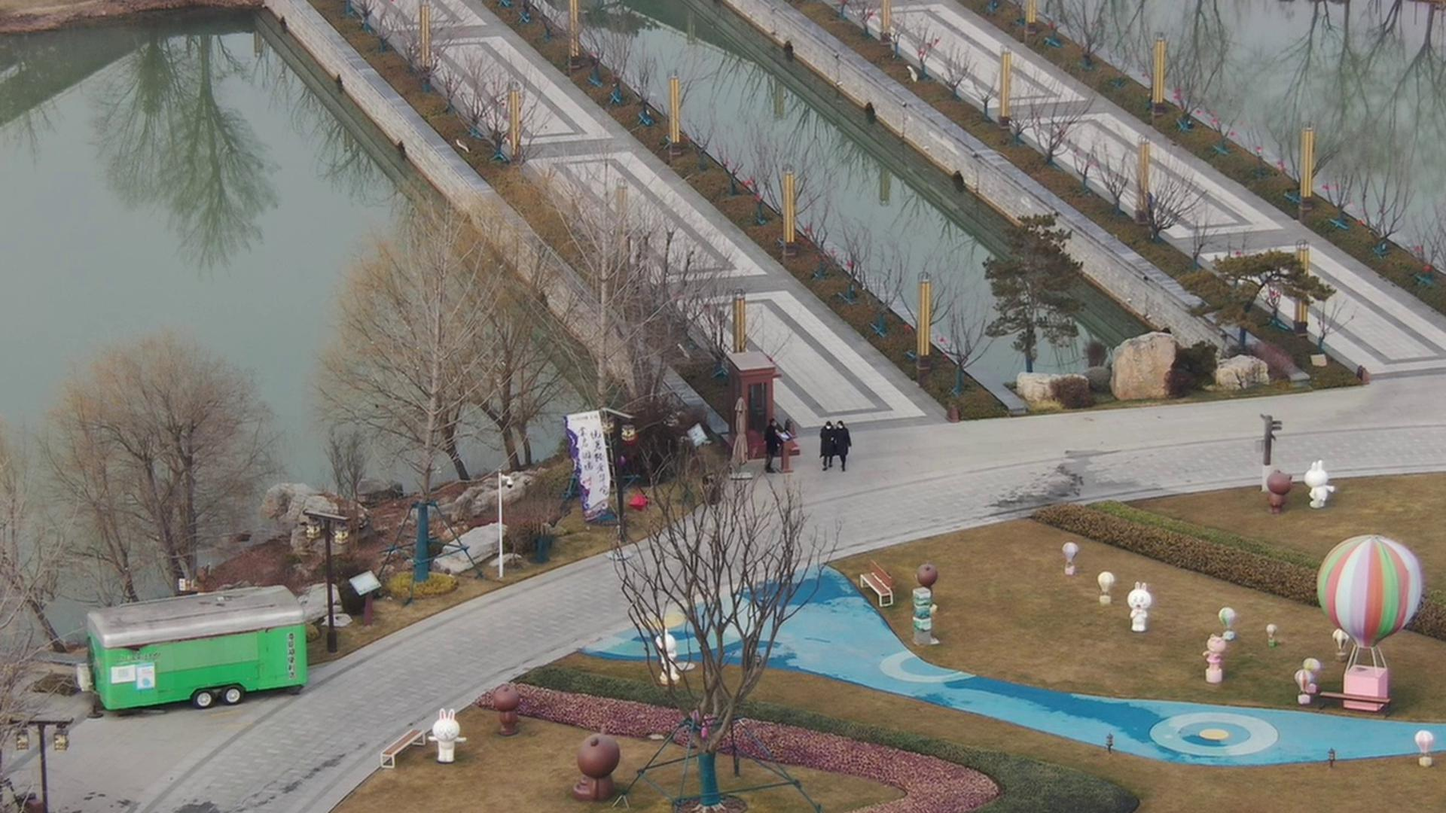class_2: (818, 414, 853, 473)
human: (752, 414, 778, 477)
